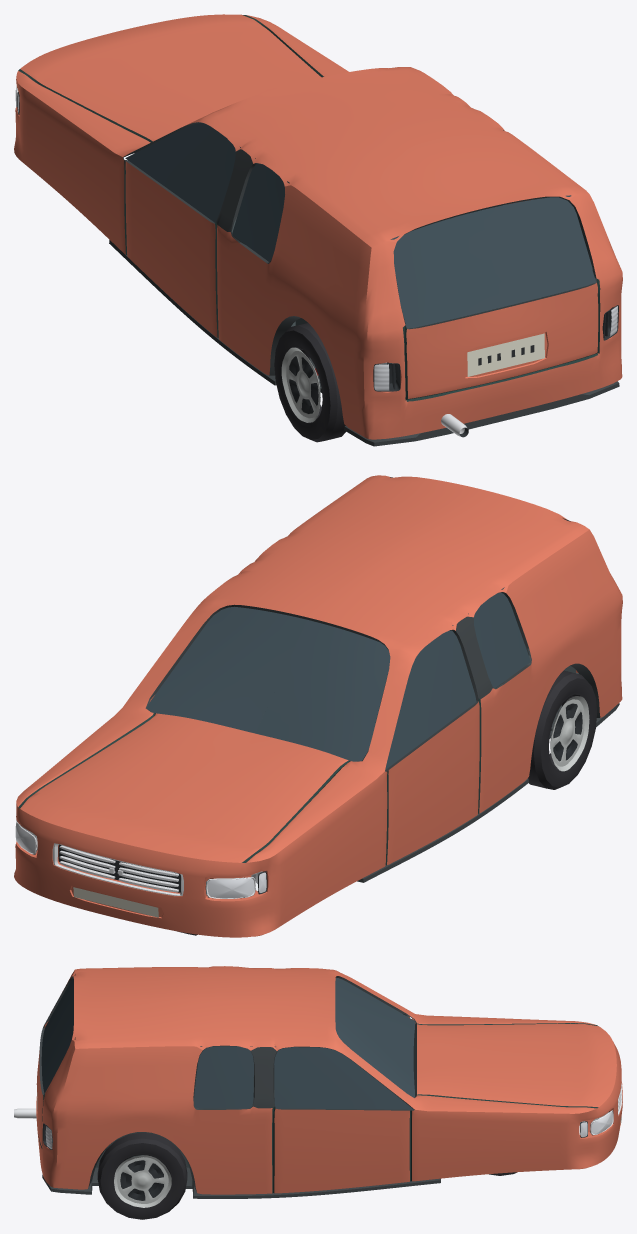
The model's file is forge_three_wheeler_lod1.fbx.
The picture shows the model from 3 angles, top to bottom: view 1: azimuth 30°, elevation 25°; view 2: azimuth 150°, elevation 25°; view 3: azimuth 270°, elevation 25°; orthographic projection. The views are drawn at different scales.
Visible parts, largest first — view 1: Body, Wheel_RL_Mesh; view 2: Body, Wheel_RL_Mesh; view 3: Body, Wheel_RR_Mesh.
Part boxes in pixels (x1,y1,x2,y2): Body: (14, 14, 622, 446); Wheel_RL_Mesh: (274, 323, 345, 442); Body: (14, 475, 622, 937); Wheel_RL_Mesh: (528, 670, 597, 789); Body: (14, 966, 622, 1198); Wheel_RR_Mesh: (97, 1132, 187, 1219).
Bounding box in the file's own units: 132 × 110 × 345.
